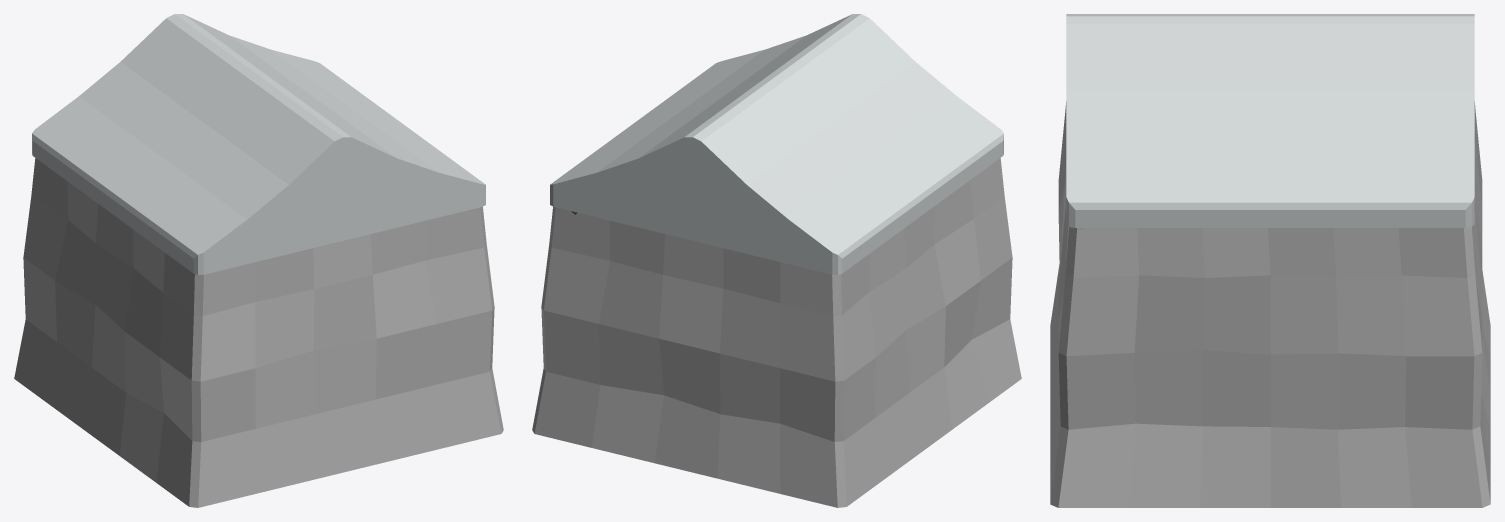
The model's file is rowtentclose.fbx.
3 renders of one model, left to right at view 1: azimuth 30°, elevation 25°; view 2: azimuth 150°, elevation 25°; view 3: azimuth 270°, elevation 25°, orthographic. The views are drawn at different scales.
Visible parts, largest first — view 1: 立方体.001, 立方体; view 2: 立方体.001, 立方体; view 3: 立方体.001, 立方体.
Boxes of the visible parts, x1,y1,x2,y2 form: 立方体.001: [14, 158, 503, 507]; 立方体: [32, 14, 485, 274]; 立方体.001: [532, 158, 1021, 507]; 立方体: [550, 14, 1003, 274]; 立方体.001: [1050, 101, 1490, 507]; 立方体: [1066, 14, 1474, 227].
Size of the model in its own units: 216 by 215 by 216.
